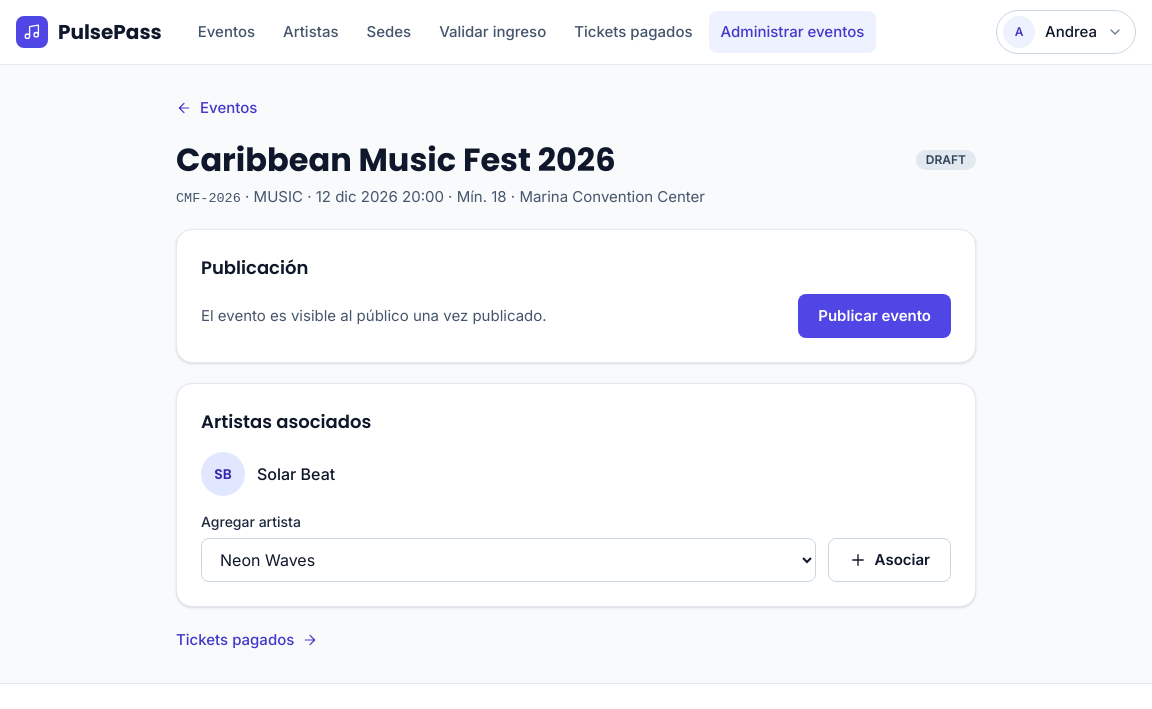
Test case: Administración de eventos (ADMIN) › TEST-FE-ADM-006: asociar un artista lo agrega a la lista
The image size is (1152, 709).
Check: the number of list items is 1, box [201, 452, 335, 496]
Select "Neon Waves" in the dropdown labelled "Agregar artista" at (508, 560), box [201, 538, 816, 582]
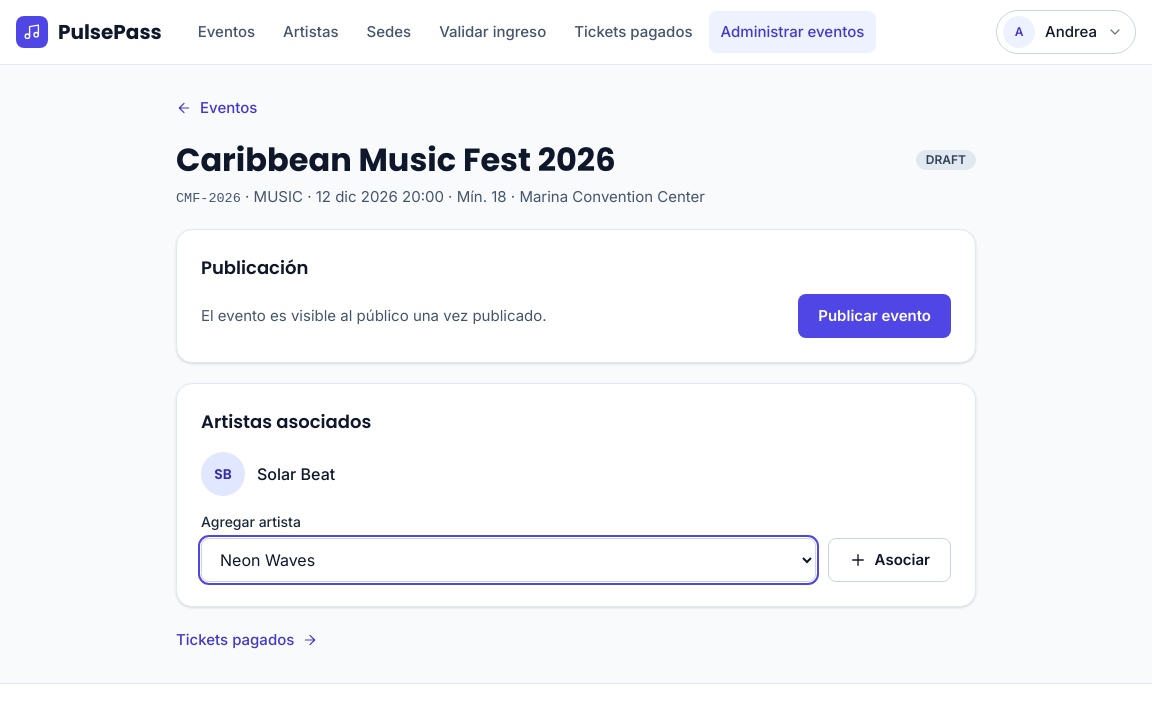
Click the button "Asociar" at (889, 560), box [828, 538, 951, 582]
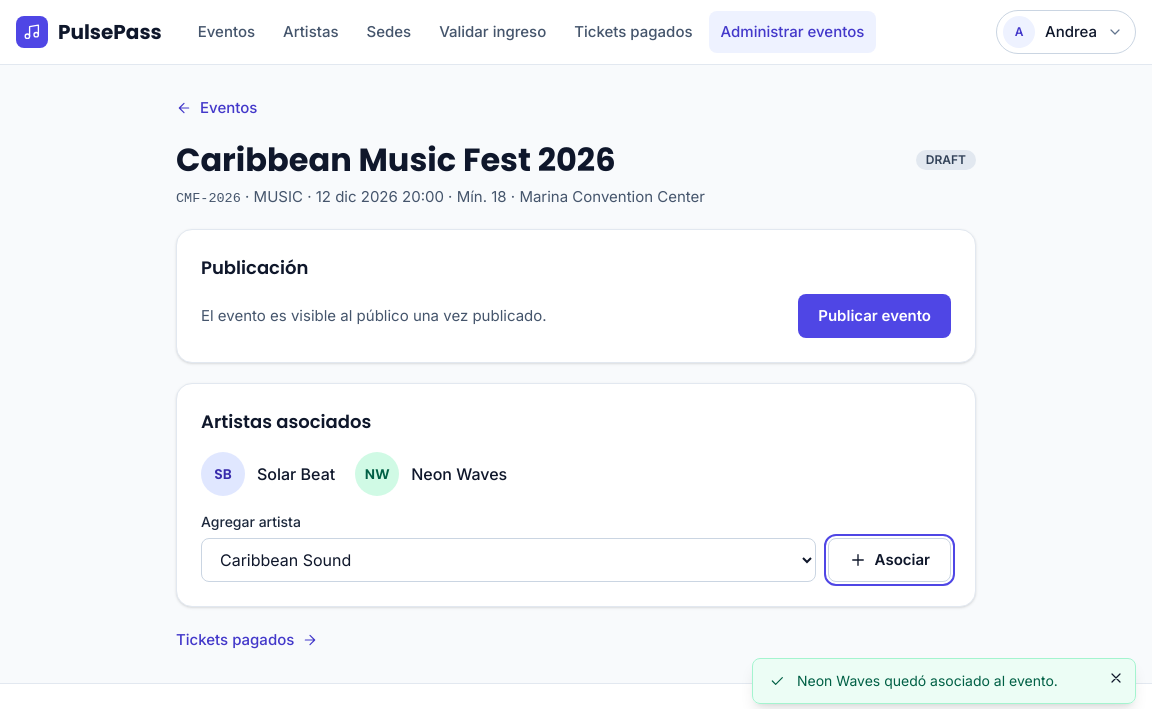
Check: the text "Neon Waves quedó asociado al evento." is shown, box [797, 671, 1058, 691]
Check: the number of list items is 2, box [201, 452, 335, 496]; [355, 452, 507, 496]
